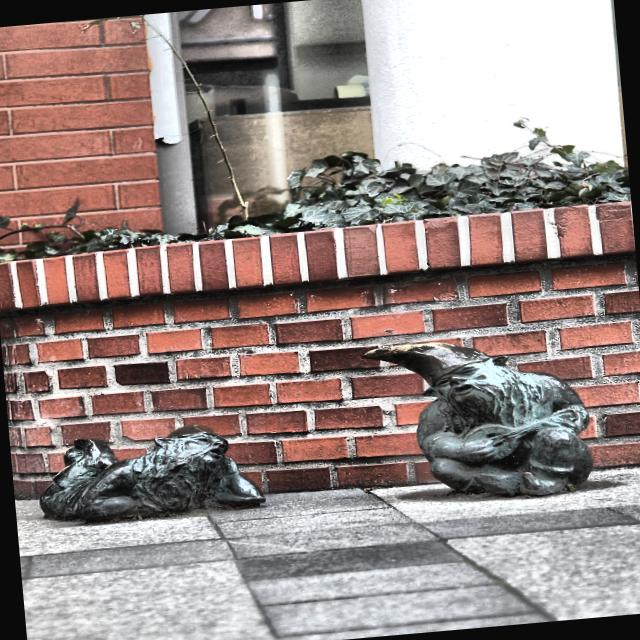Grajek_i_Meloman: (39, 342, 593, 523)
